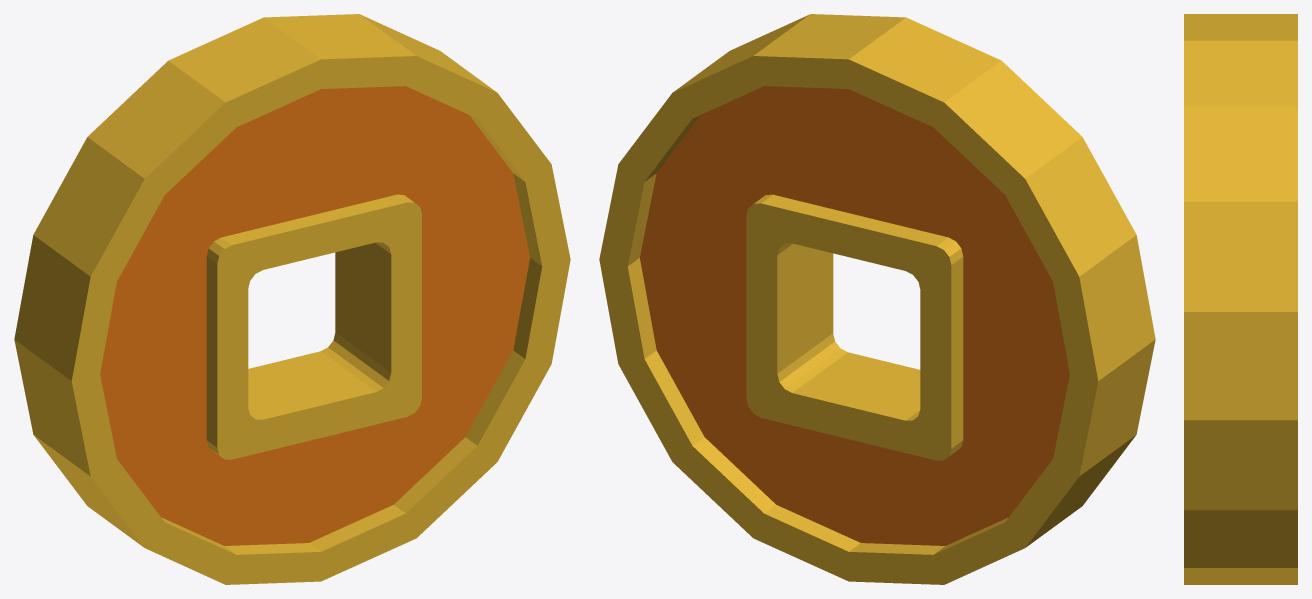
Rendered from coin07.fbx.
3 views of the same model, side by side, from view 1: azimuth 30°, elevation 25°; view 2: azimuth 150°, elevation 25°; view 3: azimuth 270°, elevation 25° (orthographic).
Visible parts, largest first — view 1: Coin07; view 2: Coin07; view 3: Coin07.
Part boxes in pixels (left/top/right/bottom): Coin07: left=14, top=14, right=570, bottom=584; Coin07: left=599, top=14, right=1155, bottom=584; Coin07: left=1184, top=14, right=1297, bottom=584.
Size of the model in its own units: 84.1 by 84.1 by 16.74.
